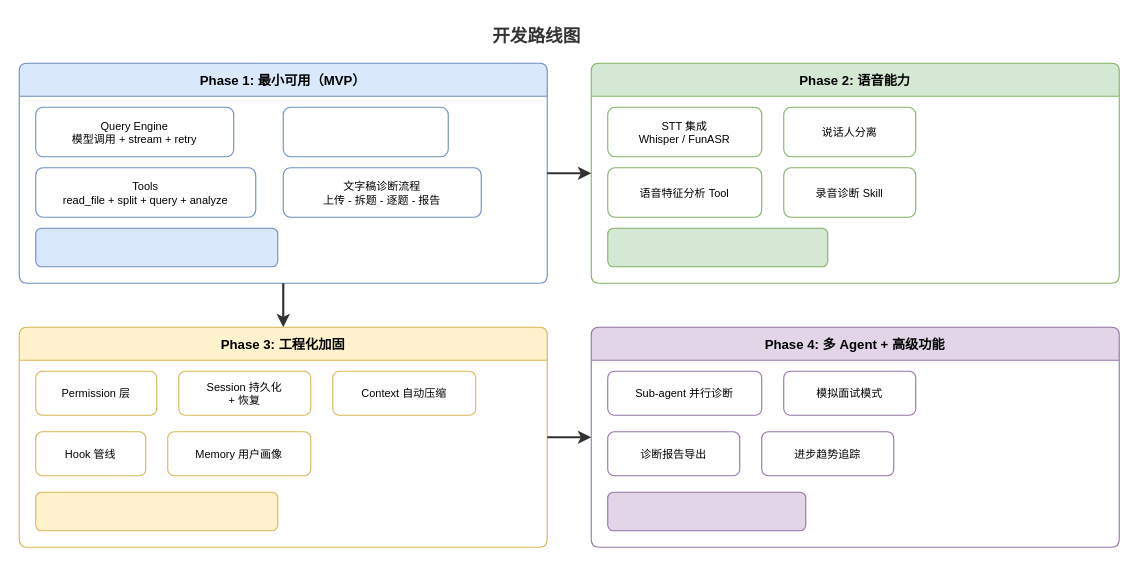
The diagram is 1139 pixels wide and 567 high, and some of its shapes have lost their labels. Here are the shapes that lost their labels. From the top down, the centre of each, then its label:
[365,131]: Knowledge Base 导入 384 道题
[156,247]: 交付: CLI 可用，能诊断文字稿
[717,247]: 交付: 支持录音上传诊断
[156,511]: 交付: 可长期使用，不丢状态
[706,511]: 交付: 完整产品体验
